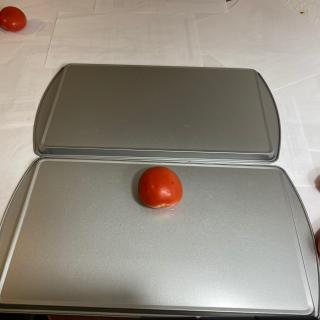Tomato: (138, 166, 183, 209), (0, 6, 27, 32)
